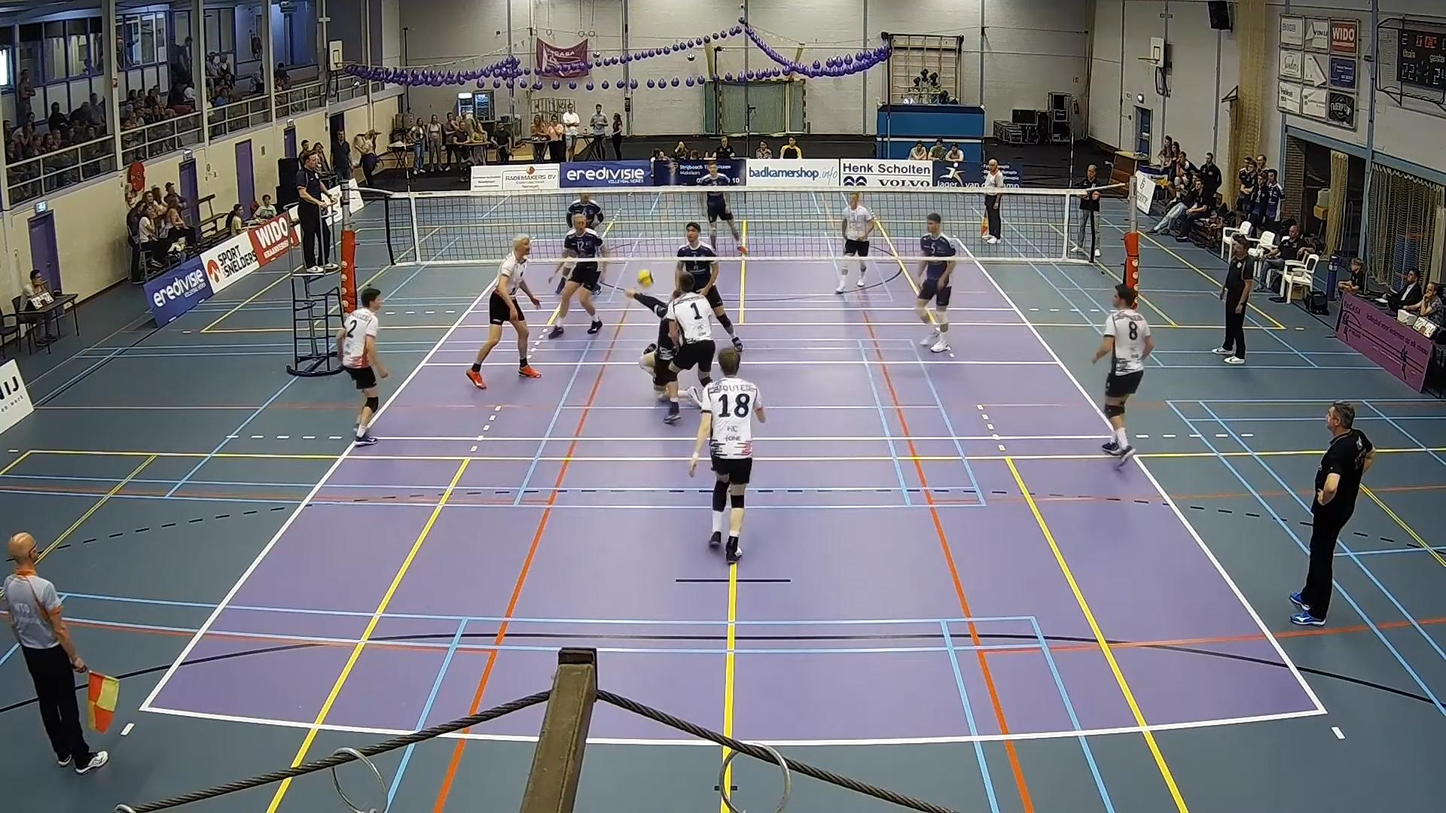Player: (689, 348, 765, 564), (467, 235, 540, 388), (1093, 284, 1154, 464), (677, 222, 741, 351), (337, 287, 388, 445), (665, 276, 715, 423), (548, 213, 605, 338), (915, 213, 956, 352), (695, 162, 746, 253), (835, 191, 876, 294), (566, 193, 603, 233)
Set: (620, 290, 736, 419)
ball: (635, 270, 656, 285)
